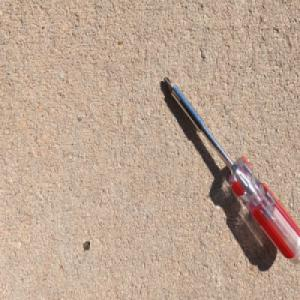Screwdriver: (163, 74, 300, 267)
